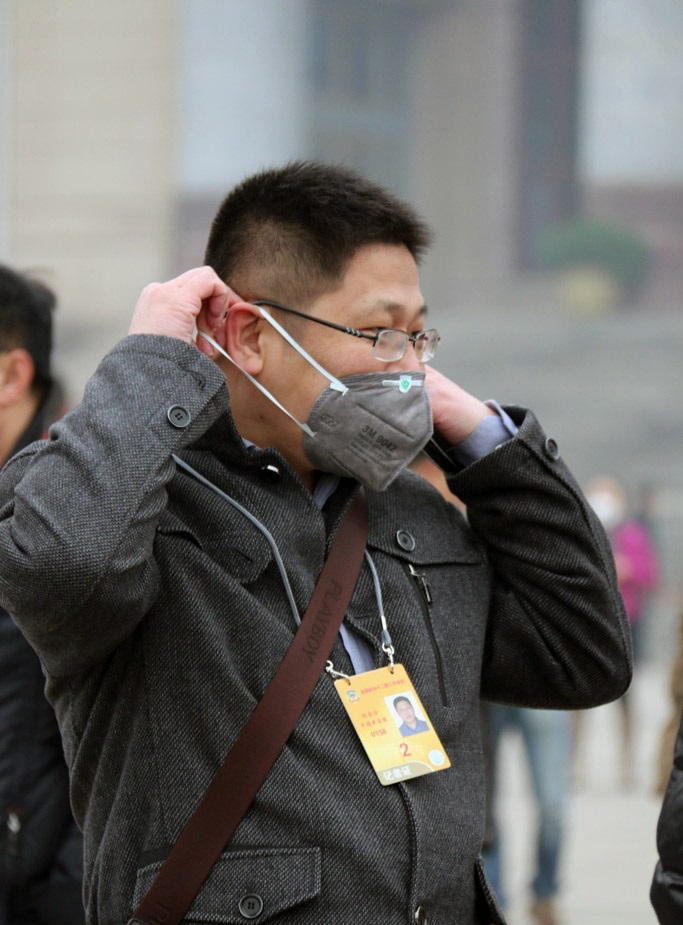face_mask: (281, 234, 426, 474)
